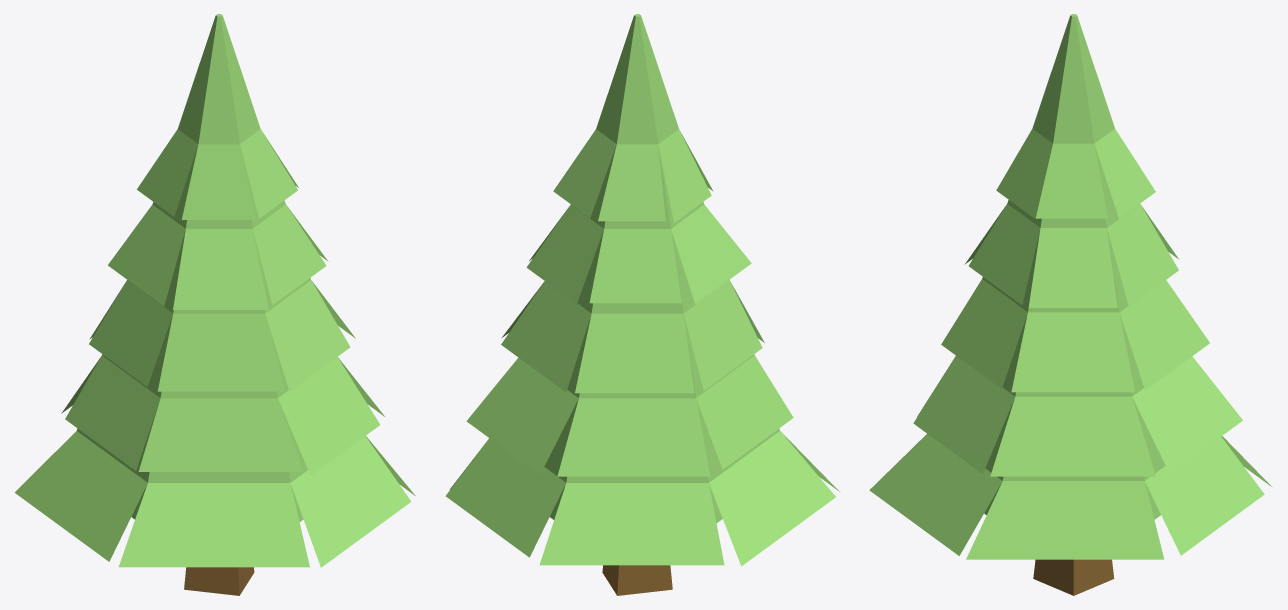
The model's file is kuusipuu1.fbx.
3 views of the same model, side by side, from view 1: azimuth 30°, elevation 25°; view 2: azimuth 150°, elevation 25°; view 3: azimuth 270°, elevation 25° (orthographic).
Parts seen in each view (by area): view 1: Havuja, Cylinder; view 2: Havuja, Cylinder; view 3: Havuja, Cylinder.
Boxes of the visible parts, x1=… form: Havuja: x1=14, y1=14, x2=415, y2=567; Cylinder: x1=184, y1=567, x2=254, y2=595; Havuja: x1=445, y1=14, x2=840, y2=566; Cylinder: x1=602, y1=565, x2=672, y2=595; Havuja: x1=869, y1=14, x2=1272, y2=559; Cylinder: x1=1033, y1=559, x2=1114, y2=595.
Size of the model in its own units: 310 by 563 by 366.
